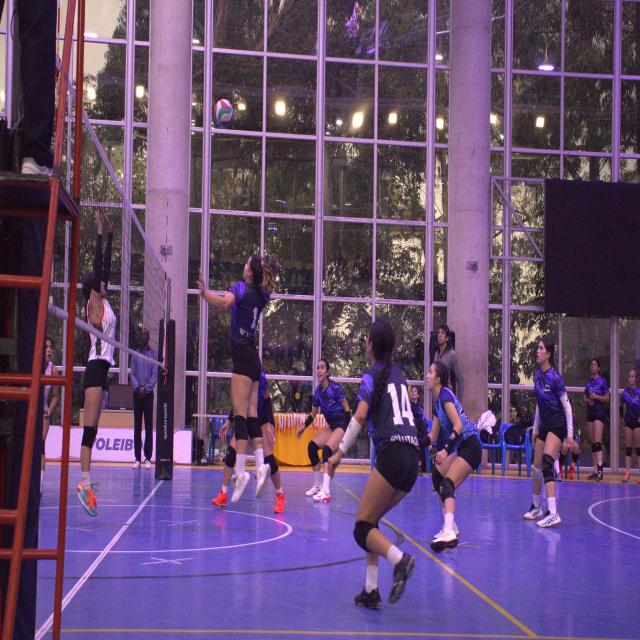volleyball: (212, 96, 234, 130)
